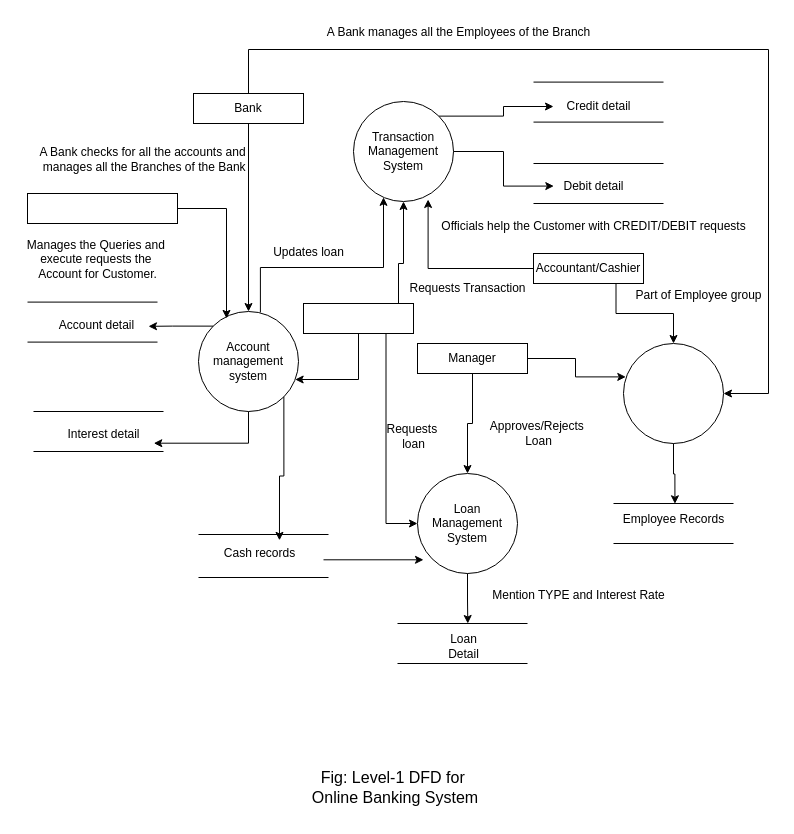
This 794x834 diagram has some shape labels left out. Each missing label, with the box of its shape:
Account/Cashier: (26, 192, 178, 224)
Customer: (302, 302, 414, 334)
Online Banking System: (622, 342, 724, 444)
